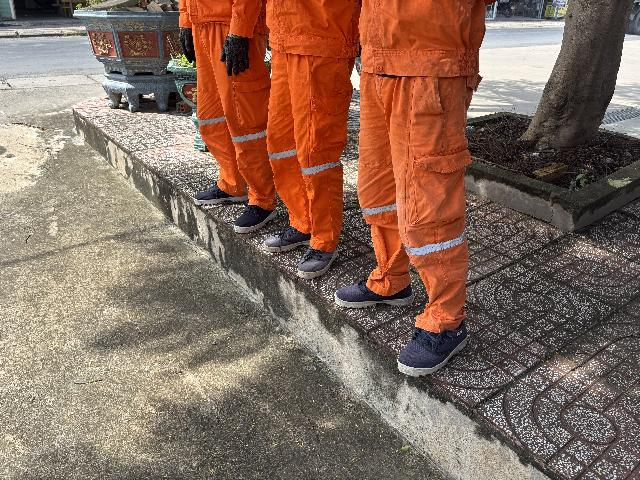gloves: (216, 34, 257, 77), (175, 30, 201, 69)
shoes: (384, 323, 480, 378), (339, 268, 415, 311), (169, 177, 257, 209), (221, 197, 281, 230), (294, 243, 337, 279), (258, 223, 305, 251)
